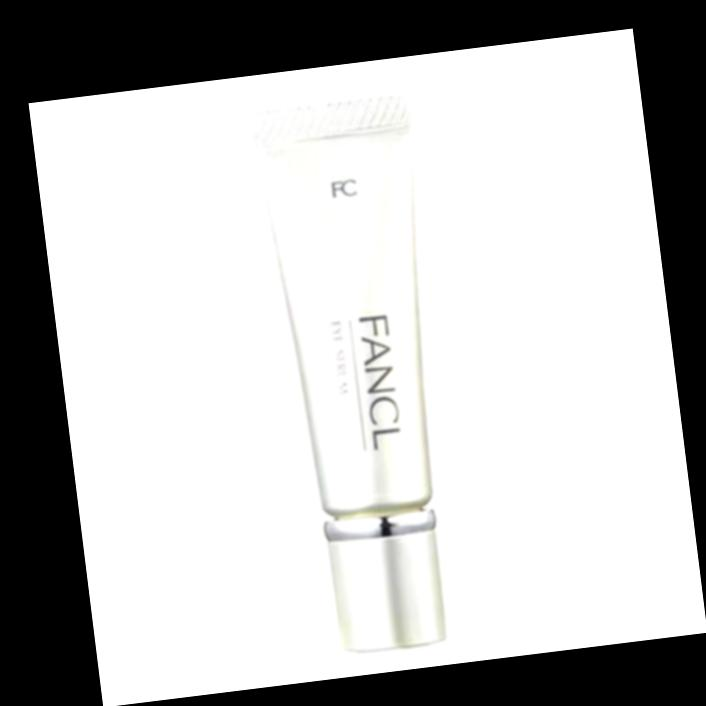cosmetic: (250, 91, 466, 659)
